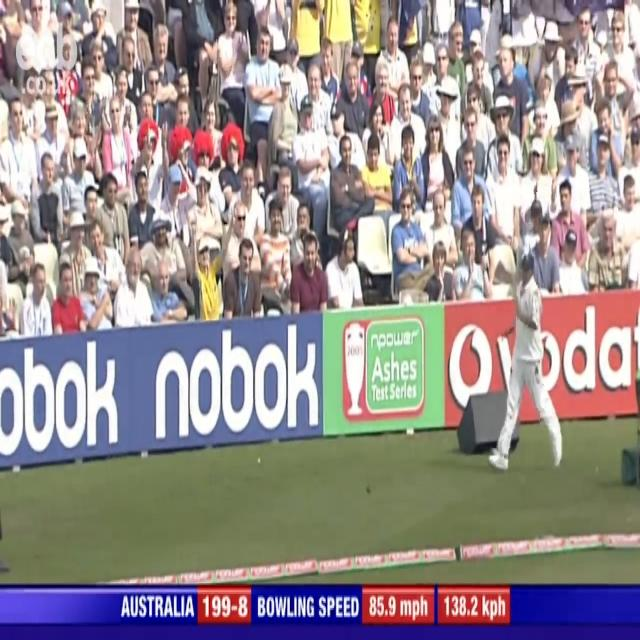ball: (364, 480, 375, 498)
